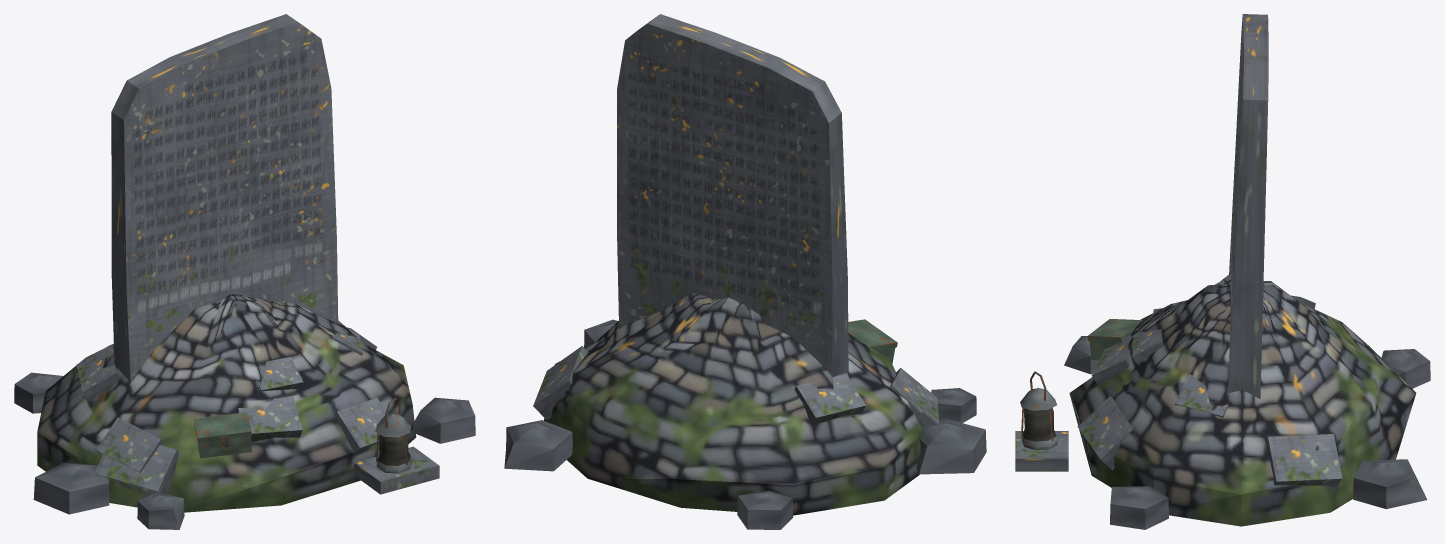
Rendered from tally-stone.glb.
3 renders of one model, left to right at view 1: azimuth 30°, elevation 25°; view 2: azimuth 150°, elevation 25°; view 3: azimuth 270°, elevation 25°, orthographic. The views are drawn at different scales.
Parts seen in each view (by area): view 1: tally-stone, LogBox; view 2: tally-stone, LogBox; view 3: tally-stone, LogBox.
Boxes of the visible parts, x1=… form: tally-stone: x1=14, y1=14, x2=475, y2=529; LogBox: x1=193, y1=412, x2=251, y2=458; tally-stone: x1=504, y1=14, x2=986, y2=529; LogBox: x1=848, y1=319, x2=897, y2=363; tally-stone: x1=1015, y1=14, x2=1430, y2=529; LogBox: x1=1087, y1=319, x2=1142, y2=360.
Bounding box in the file's own units: 2.35 × 2.25 × 2.02.
Materials: 1 (1 with a texture image).
